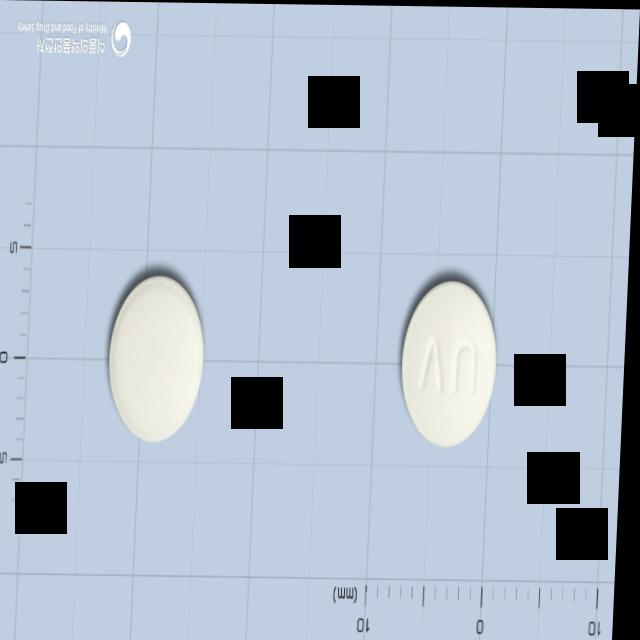Unilevo Tab: (401, 279, 502, 449), (109, 273, 210, 442)
